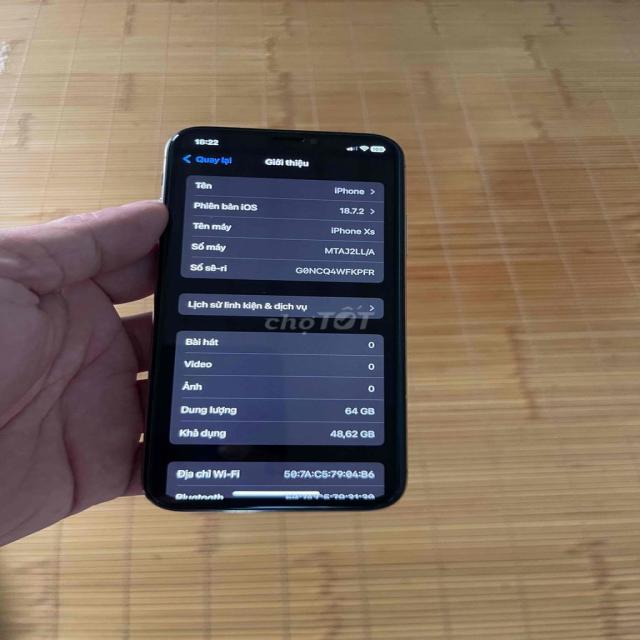gen_x_xs: (142, 116, 416, 526)
